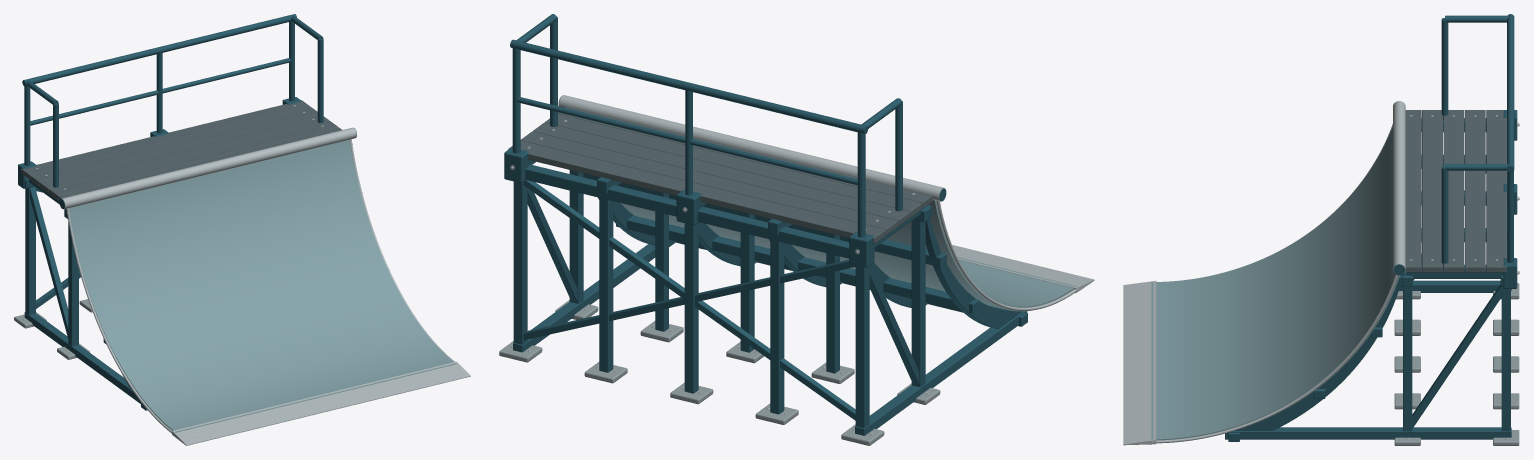
The model's file is city-skate-quarter-pipe.glb.
The picture shows the model from 3 angles, left to right: view 1: azimuth 30°, elevation 25°; view 2: azimuth 150°, elevation 25°; view 3: azimuth 270°, elevation 25°; orthographic projection. The views are drawn at different scales.
Parts seen in each view (by area): view 1: Assembly | Muted blue grey riding composite, Assembly | Deep petrol powder coat, Assembly | Charcoal anti slip deck, Assembly | Satin stainless structural hardware, Assembly | Galvanized steel foot hardware; view 2: Assembly | Deep petrol powder coat, Assembly | Charcoal anti slip deck, Assembly | Satin stainless structural hardware, Assembly | Muted blue grey riding composite, Assembly | Galvanized steel foot hardware; view 3: Assembly | Muted blue grey riding composite, Assembly | Deep petrol powder coat, Assembly | Charcoal anti slip deck, Assembly | Satin stainless structural hardware, Assembly | Galvanized steel foot hardware.
Part boxes in pixels (x1,y1,x2,y2): Assembly | Muted blue grey riding composite: (69, 140, 456, 432); Assembly | Deep petrol powder coat: (18, 14, 356, 410); Assembly | Charcoal anti slip deck: (21, 100, 341, 201); Assembly | Satin stainless structural hardware: (22, 105, 470, 445); Assembly | Galvanized steel foot hardware: (14, 299, 92, 359); Assembly | Deep petrol powder coat: (504, 14, 1027, 435); Assembly | Charcoal anti slip deck: (508, 106, 933, 243); Assembly | Satin stainless structural hardware: (510, 95, 1094, 435); Assembly | Muted blue grey riding composite: (621, 200, 1076, 311); Assembly | Galvanized steel foot hardware: (499, 300, 940, 445); Assembly | Muted blue grey riding composite: (1151, 127, 1399, 440); Assembly | Deep petrol powder coat: (1225, 14, 1517, 441); Assembly | Charcoal anti slip deck: (1405, 110, 1506, 272); Assembly | Satin stainless structural hardware: (1123, 101, 1519, 445); Assembly | Galvanized steel foot hardware: (1394, 283, 1519, 445).
Size of the model in its own units: 2.5 by 1.97 by 2.56.
